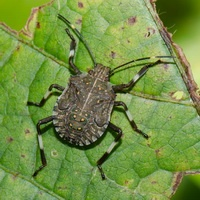insect: (27, 13, 173, 179), (109, 57, 159, 85), (73, 41, 93, 72)
